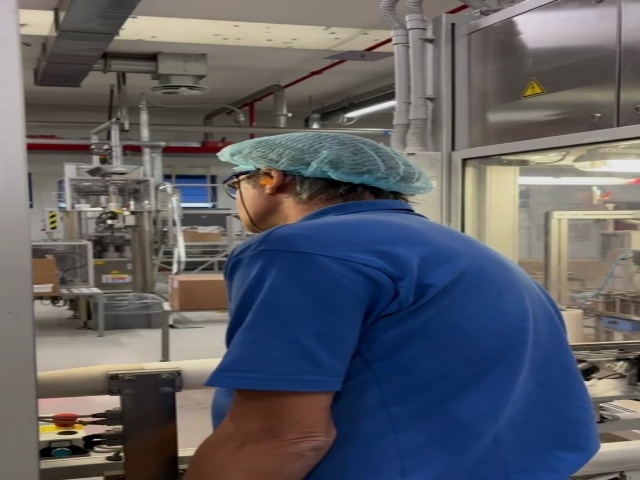Earplug: (256, 167, 281, 195)
Hairnet: (215, 130, 430, 194)
No_Helmet: (220, 131, 430, 190)
No_Vest: (226, 214, 599, 480)
Person: (214, 131, 598, 480)
Safety_Goggles: (220, 168, 260, 202)
